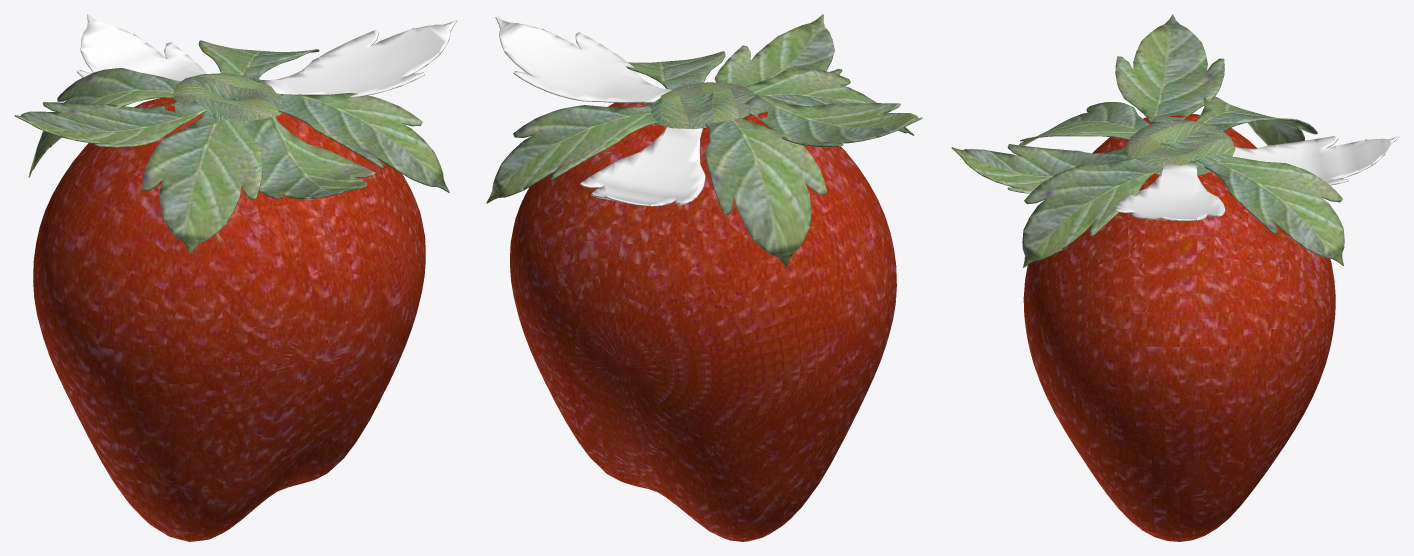
File: strawberries2.fbx
3 views of the same model, side by side, from view 1: azimuth 30°, elevation 25°; view 2: azimuth 150°, elevation 25°; view 3: azimuth 270°, elevation 25° (orthographic). The views are drawn at different scales.
Parts seen in each view (by area): view 1: straw_dxf1; view 2: straw_dxf1; view 3: straw_dxf1.
Part boxes in pixels (box(x1,y1,x2,y2)): straw_dxf1: box(14, 14, 457, 541); straw_dxf1: box(486, 14, 922, 541); straw_dxf1: box(951, 14, 1399, 541).
Size of the model in its own units: 7.26 by 7.38 by 7.01.
